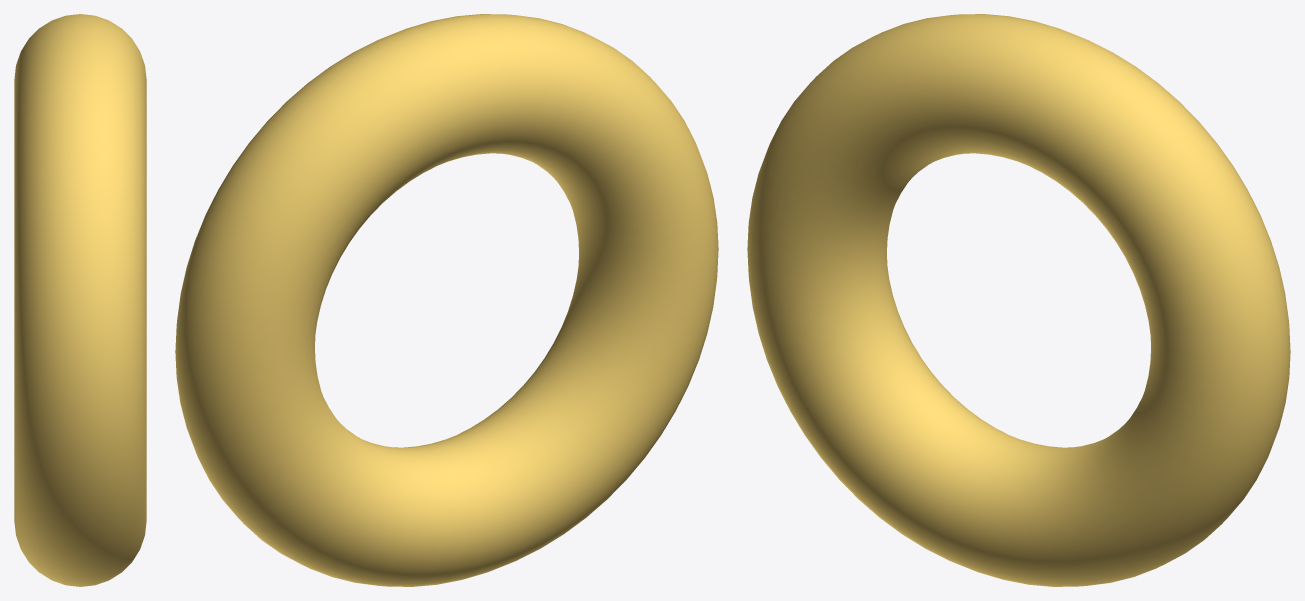
The model's file is NagWeb-Anillo-Aceptacion.glb.
3 renders of one model, left to right at view 1: azimuth 30°, elevation 25°; view 2: azimuth 150°, elevation 25°; view 3: azimuth 270°, elevation 25°, orthographic. The views are drawn at different scales.
Parts seen in each view (by area): view 1: Anillo; view 2: Anillo; view 3: Anillo.
Boxes of the visible parts, x1,y1,x2,y2 form: Anillo: (14,14,146,586); Anillo: (175,14,718,586); Anillo: (747,14,1290,586).
Size of the model in its own units: 1.6 by 2.6 by 2.33.
